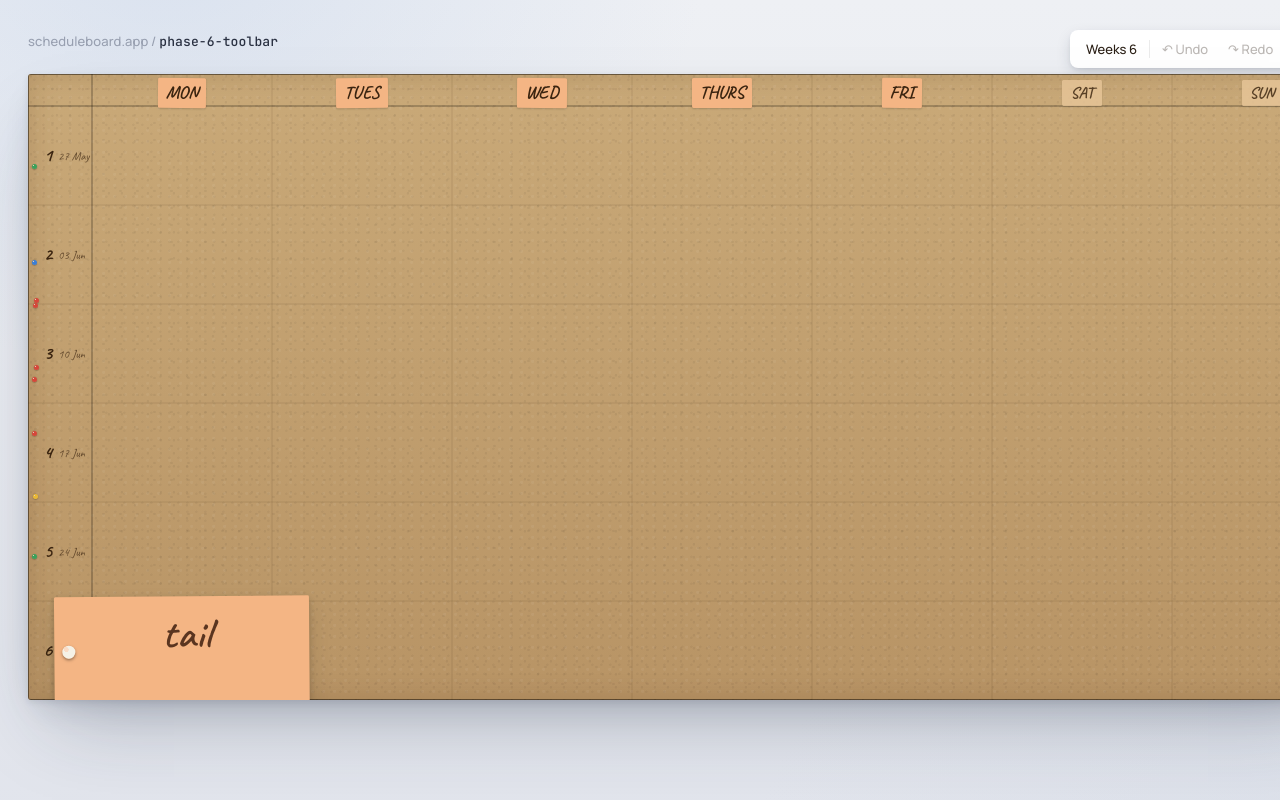
Scenario: Phase 6 — Toolbar › Weeks stepper: shrinking that would cut cards opens the resize dialog
Click the button with test id "toolbar-weeks-display" at (1112, 49), box [1076,34,1147,64]
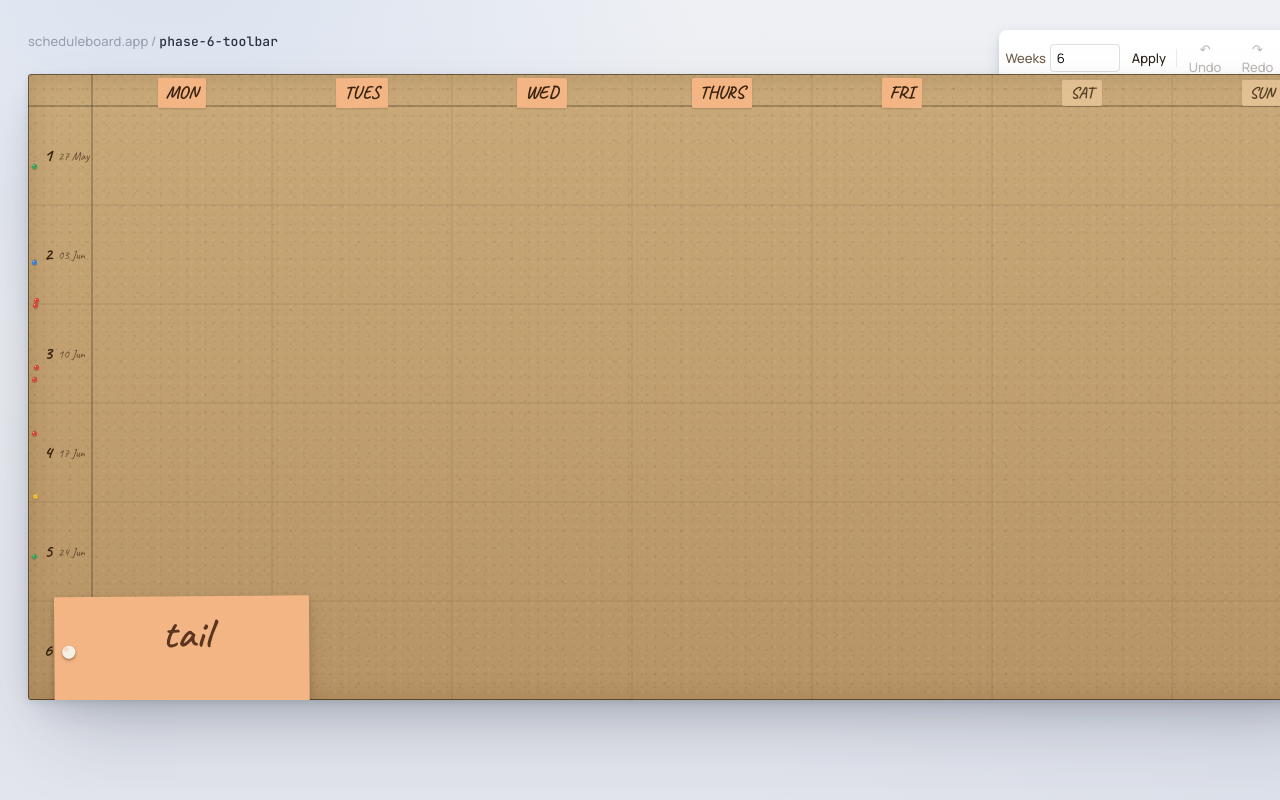
Replace the text in the number field with test id "toolbar-weeks-input" with "4" at (1085, 58), box [1050,44,1120,72]
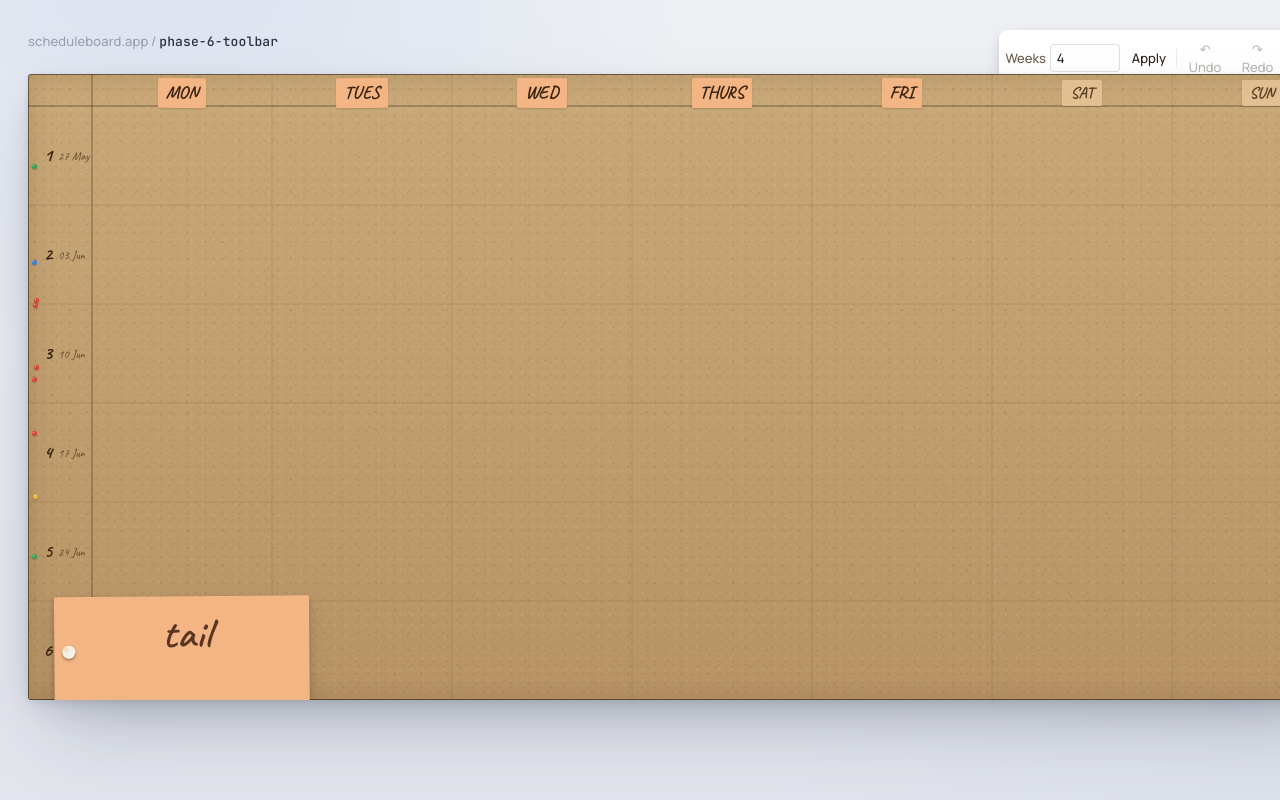
Click the button with test id "toolbar-weeks-apply" at (1149, 58), box [1124,45,1174,71]
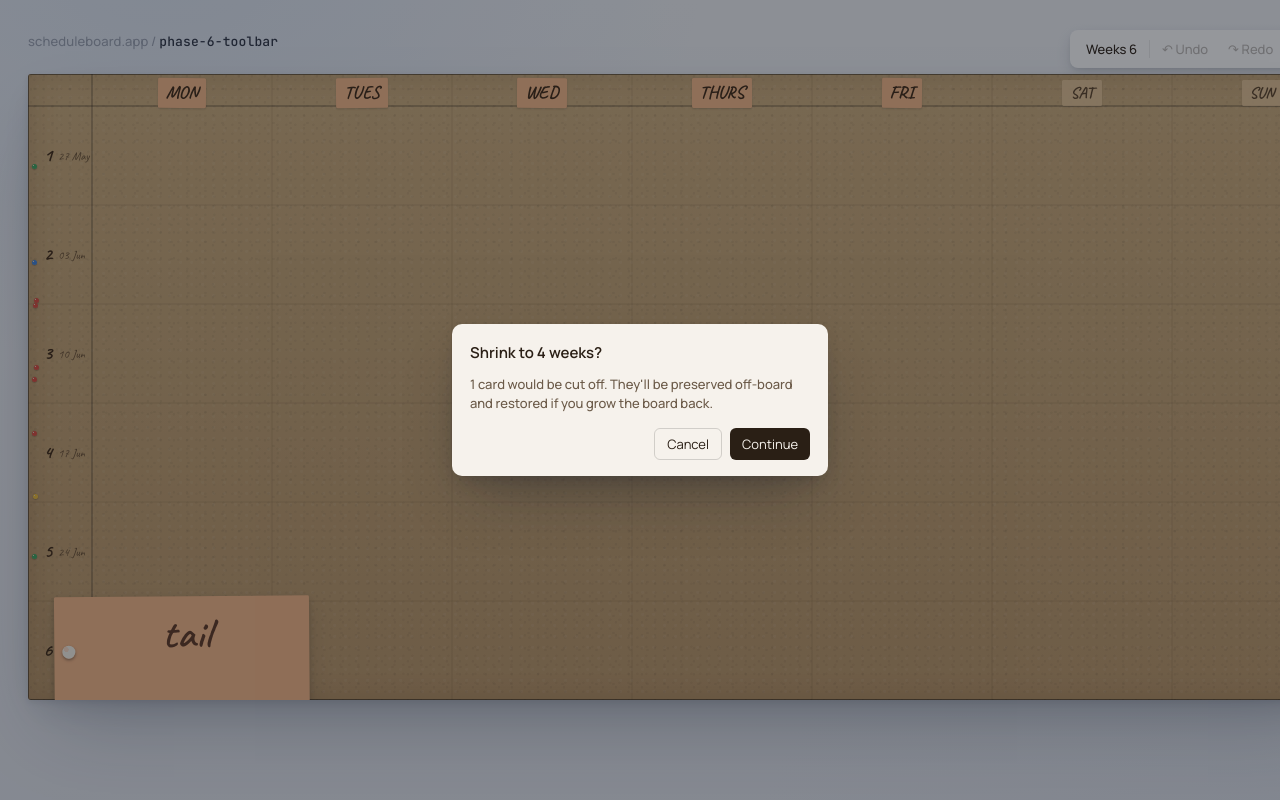
Expected: the dialog with test id "resize-dialog" is shown
Expected: the button with test id "toolbar-weeks-display" reads "Weeks 6", [1076,34,1147,64]
